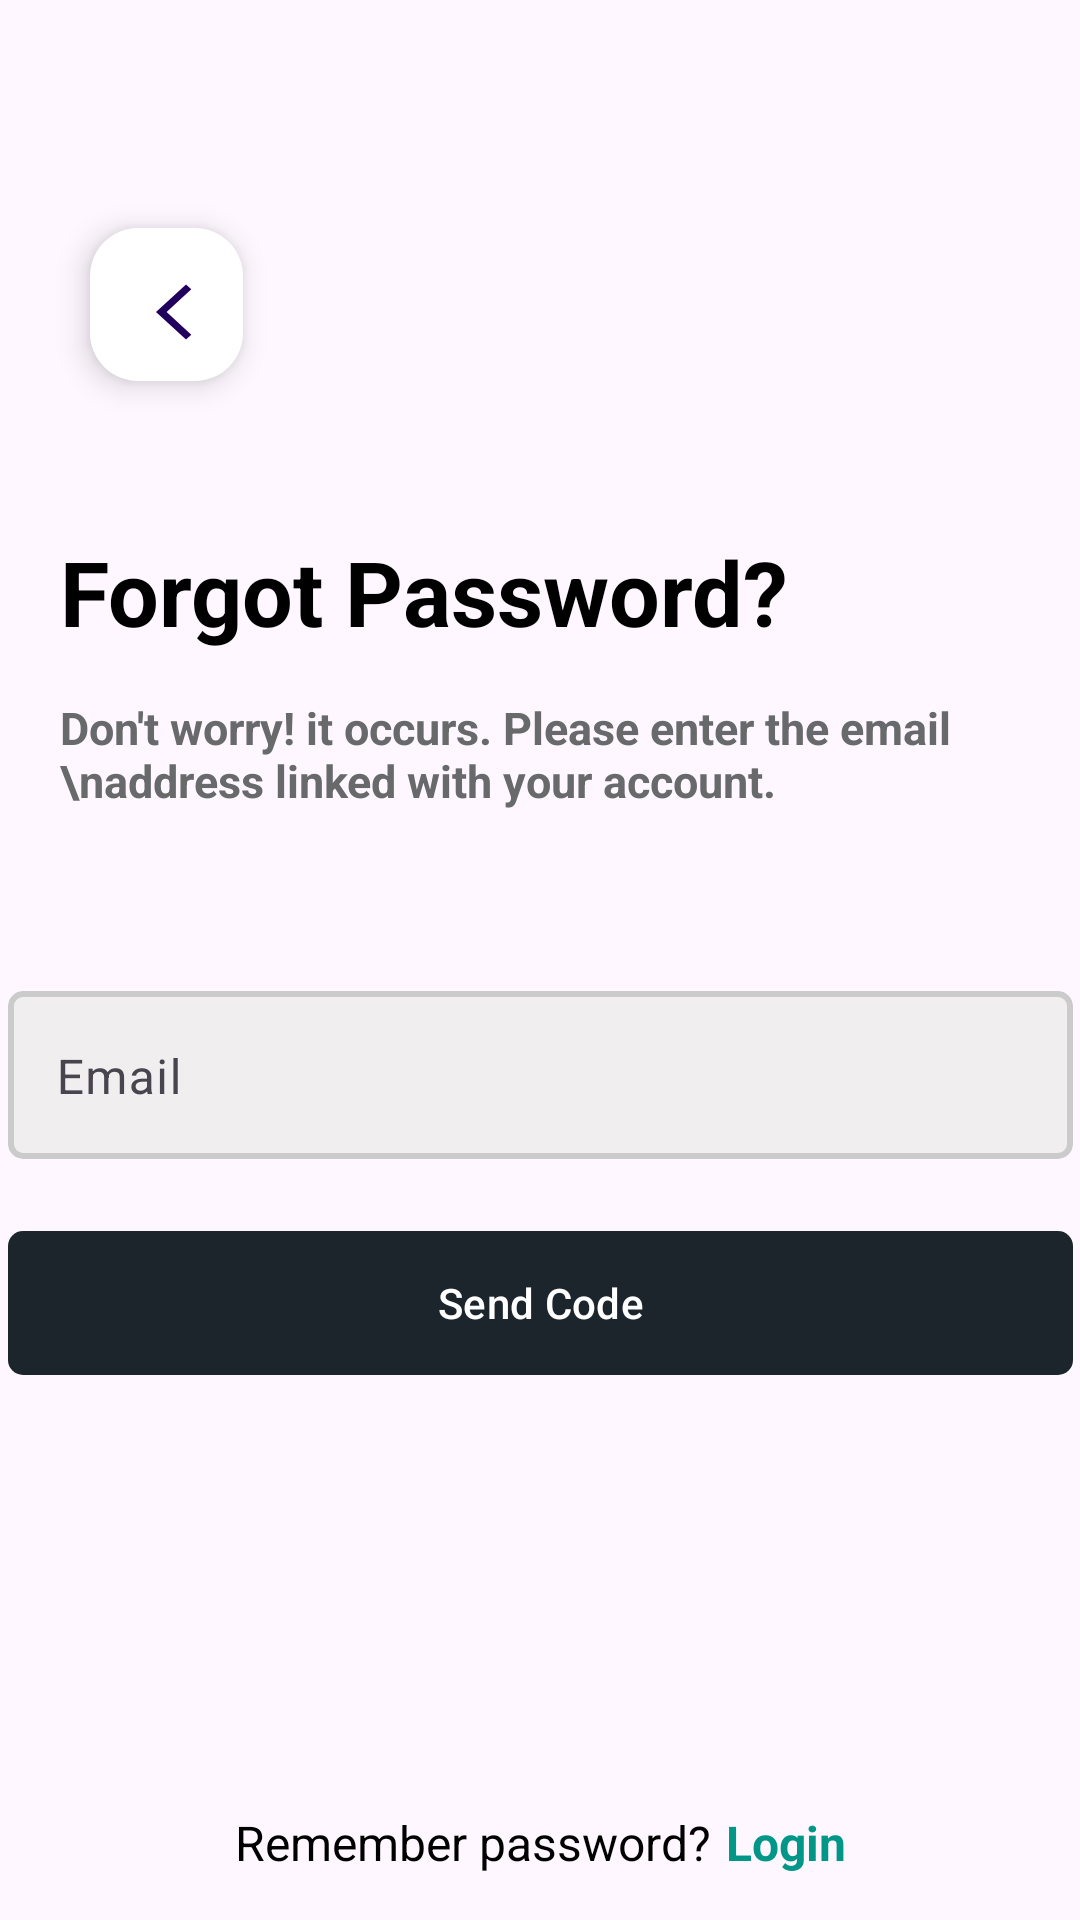

Locate icon controls on the screen. Image size 1080w x 1920h, boxes as {"left": x1, "top": y1, "right": x2, "bottom": y2}.
arrow back: {"left": 90, "top": 228, "right": 243, "bottom": 381}
